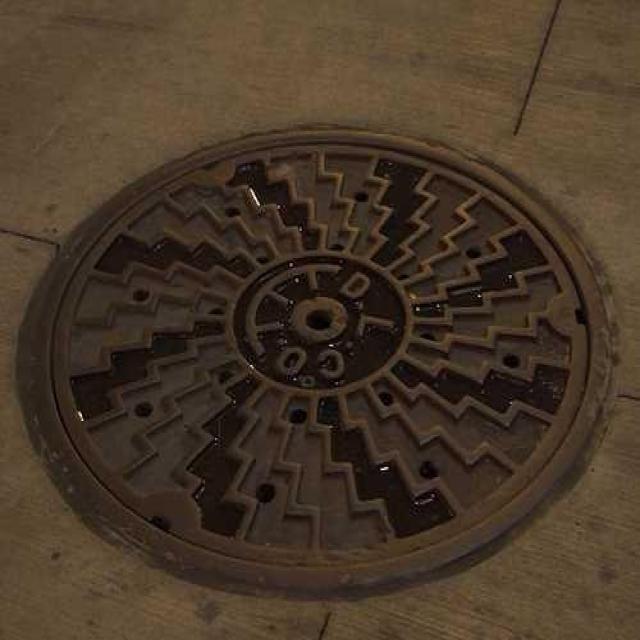manhole: (15, 127, 621, 599)
